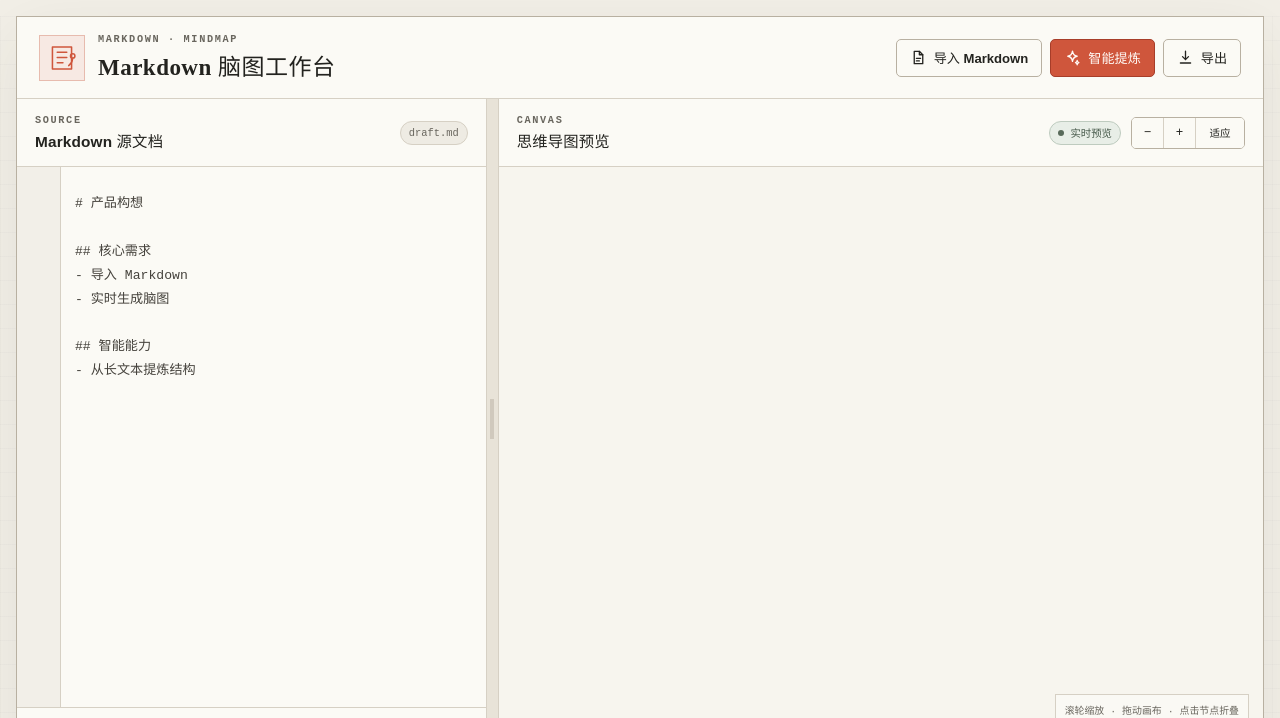
Test: 应用工作台 › 提炼失败时保留原文并允许重试
Click the button "智能提炼" at coordinates (1103, 58), box [1050, 38, 1155, 76]
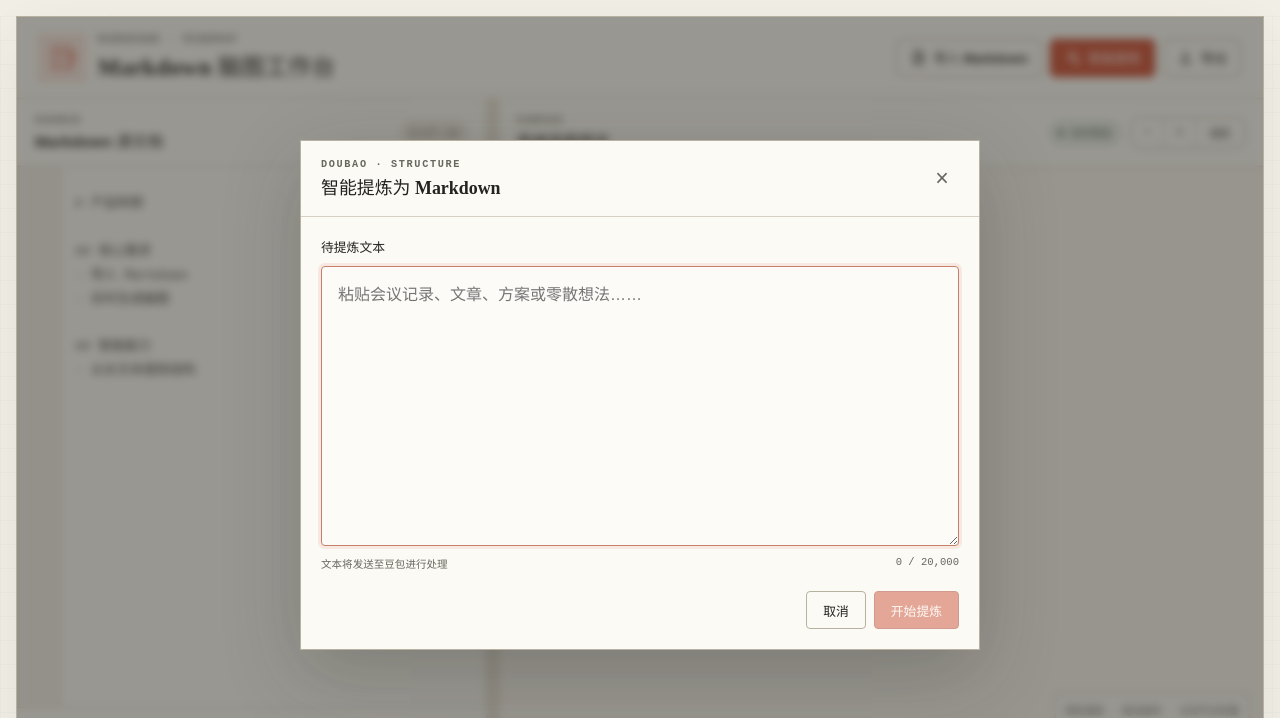
Type "需要整理的原始内容" into the text box labelled "待提炼文本" at coordinates (640, 406), box [321, 266, 959, 546]
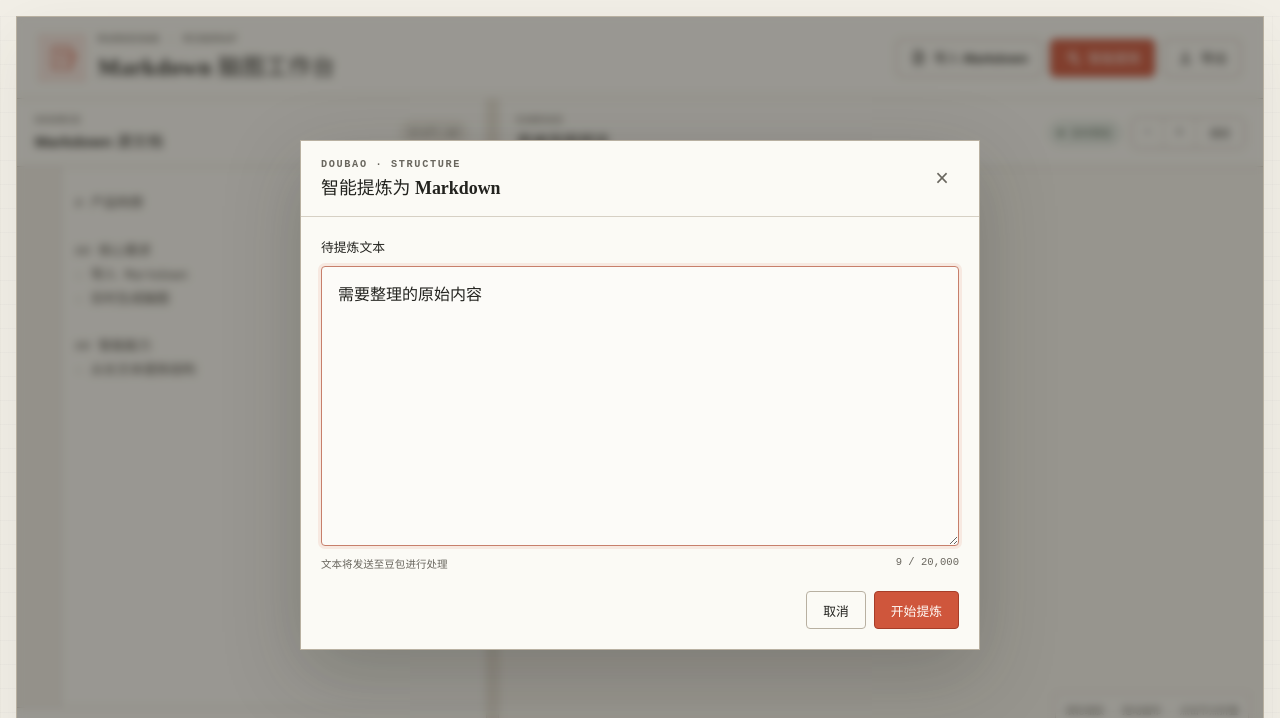
Click the button "开始提炼" at coordinates (916, 610), box [874, 591, 959, 629]
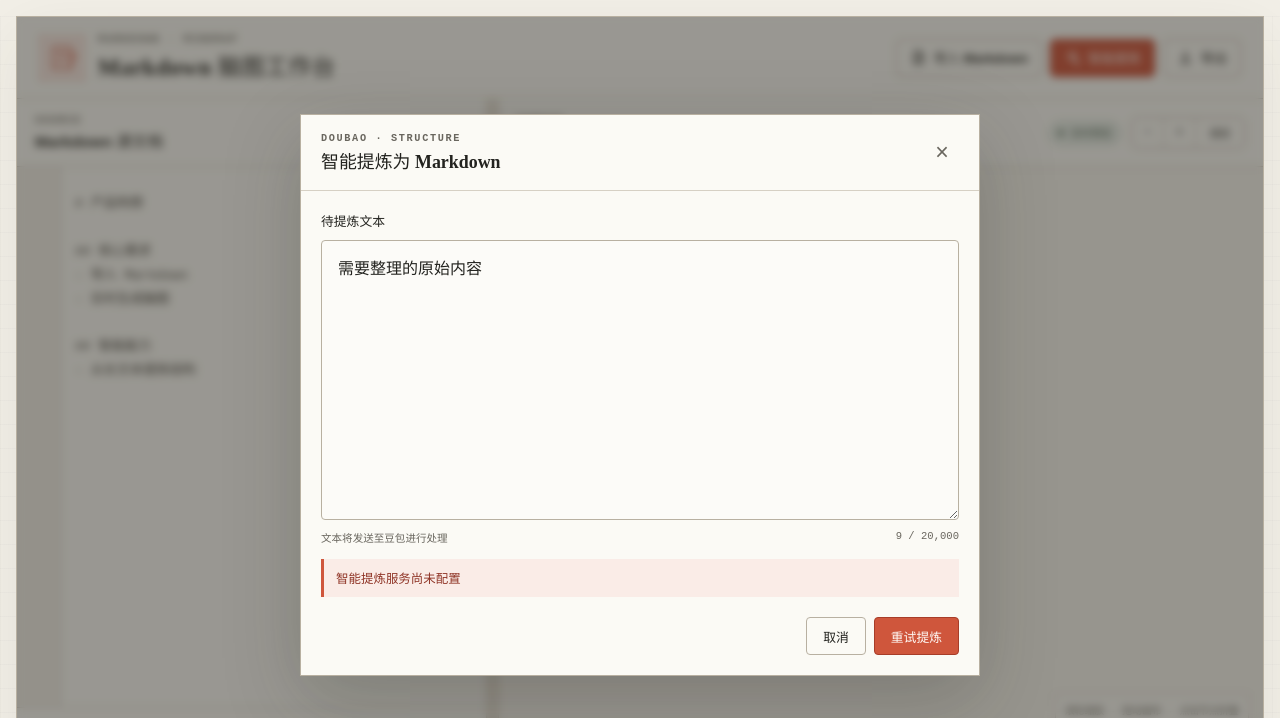
Check: the button "重试提炼" is enabled, box [874, 617, 959, 655]
Check: the message reads "智能提炼服务尚未配置", box [336, 572, 461, 586]
